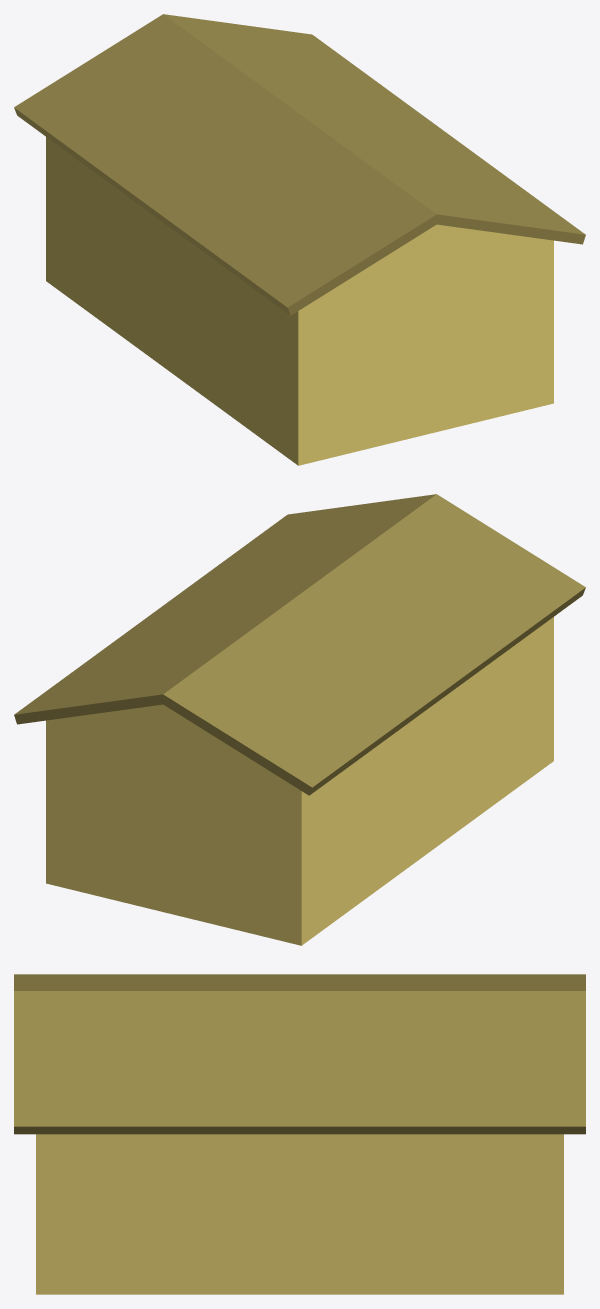
File: result.glb
3 renders of one model, top to bottom at view 1: azimuth 30°, elevation 25°; view 2: azimuth 150°, elevation 25°; view 3: azimuth 270°, elevation 25°, orthographic. The views are drawn at different scales.
Visible parts, largest first — view 1: 5ccf2bb6-ac5e-42e7-afde-101a09c177e4__undefined (×2), 54119494-be6c-40d1-a233-61a2fba2d0bb__undefined; view 2: 5ccf2bb6-ac5e-42e7-afde-101a09c177e4__undefined (×2), 54119494-be6c-40d1-a233-61a2fba2d0bb__undefined; view 3: 5ccf2bb6-ac5e-42e7-afde-101a09c177e4__undefined (×2), 54119494-be6c-40d1-a233-61a2fba2d0bb__undefined.
Part boxes in pixels (<box>): 5ccf2bb6-ac5e-42e7-afde-101a09c177e4__undefined (×2): <box>14,14,585,315</box>; 54119494-be6c-40d1-a233-61a2fba2d0bb__undefined: <box>46,137,553,465</box>; 5ccf2bb6-ac5e-42e7-afde-101a09c177e4__undefined (×2): <box>14,494,585,795</box>; 54119494-be6c-40d1-a233-61a2fba2d0bb__undefined: <box>46,617,553,945</box>; 5ccf2bb6-ac5e-42e7-afde-101a09c177e4__undefined (×2): <box>14,974,585,1134</box>; 54119494-be6c-40d1-a233-61a2fba2d0bb__undefined: <box>36,1134,563,1294</box>.
Size of the model in its own units: 819 by 598 by 1301.
